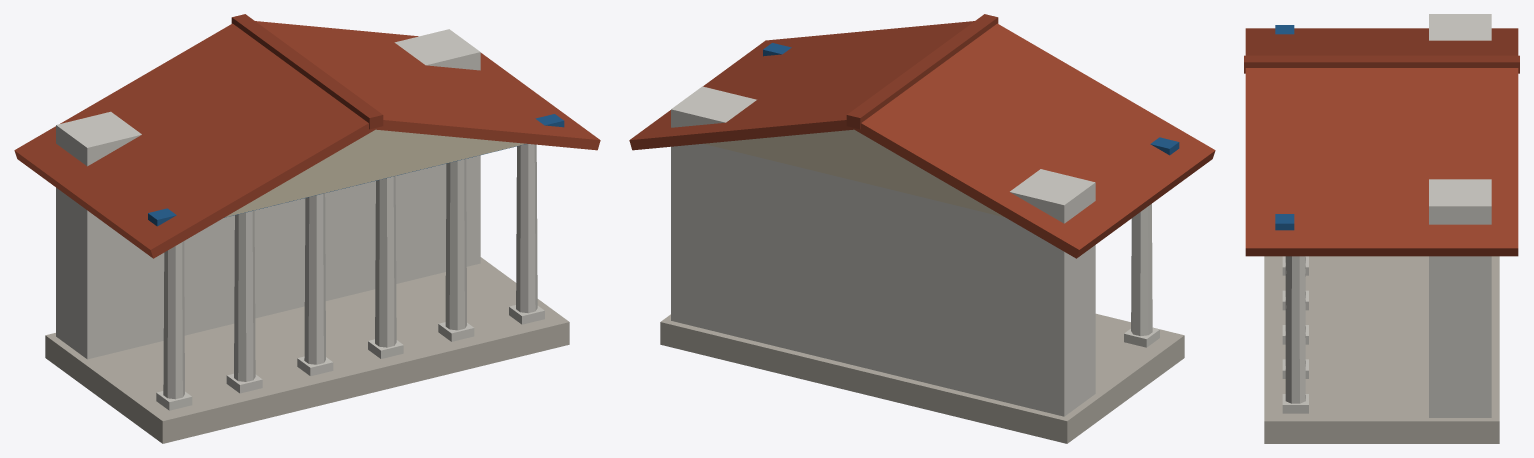
Rendered from centaur_house_b.glb.
The picture shows the model from 3 angles, left to right: view 1: azimuth 30°, elevation 25°; view 2: azimuth 150°, elevation 25°; view 3: azimuth 270°, elevation 25°; orthographic projection.
Visible parts, largest first — view 1: centaur_house_b; view 2: centaur_house_b; view 3: centaur_house_b.
Part boxes in pixels (<box>): centaur_house_b: <box>14,14,600,443</box>; centaur_house_b: <box>629,14,1215,443</box>; centaur_house_b: <box>1244,14,1519,443</box>.
Size of the model in its own units: 3.32 by 2.01 by 1.76.
